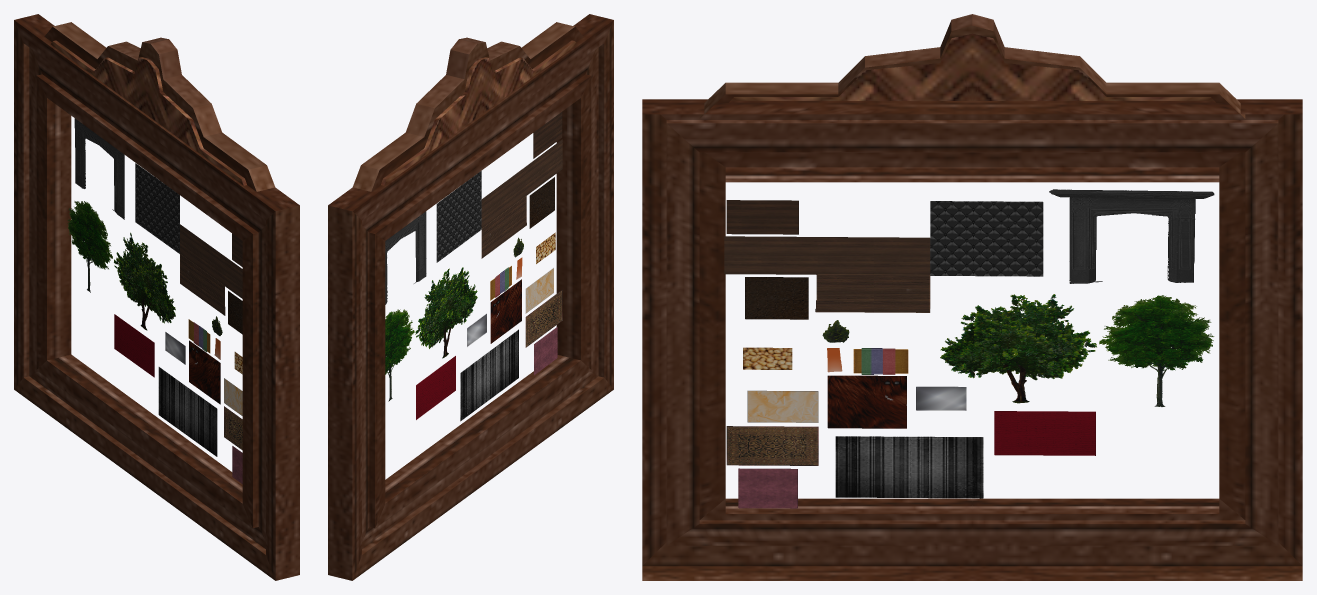
File: Painting3.fbx
The picture shows the model from 3 angles, left to right: view 1: azimuth 30°, elevation 25°; view 2: azimuth 150°, elevation 25°; view 3: azimuth 270°, elevation 25°; orthographic projection. The views are drawn at different scales.
Visible parts, largest first — view 1: Cube.049; view 2: Cube.049; view 3: Cube.049.
Part boxes in pixels (x1,y1,x2,y2): Cube.049: (14, 14, 299, 580); Cube.049: (328, 14, 613, 580); Cube.049: (642, 14, 1302, 580).
Size of the model in its own units: 11.33 by 195 by 210.
